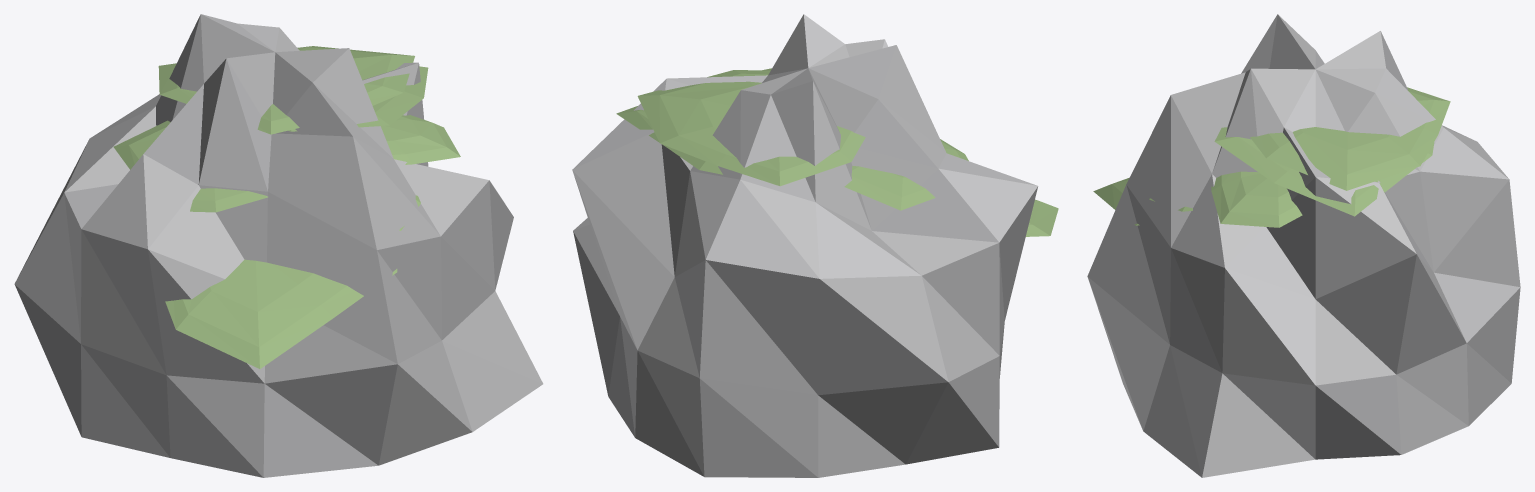
File: temperate-forest-ecology-granite-boulder-mossy-4f320faf__3873.glb
3 views of the same model, side by side, from view 1: azimuth 30°, elevation 25°; view 2: azimuth 150°, elevation 25°; view 3: azimuth 270°, elevation 25° (orthographic). The views are drawn at different scales.
Parts seen in each view (by area): view 1: granite-boulder-mossy; view 2: granite-boulder-mossy; view 3: granite-boulder-mossy.
Boxes of the visible parts, x1=… form: granite-boulder-mossy: x1=14, y1=14, x2=543, y2=477; granite-boulder-mossy: x1=572, y1=14, x2=1058, y2=477; granite-boulder-mossy: x1=1087, y1=14, x2=1520, y2=477.
Size of the model in its own units: 1.68 by 1.33 by 1.54.
